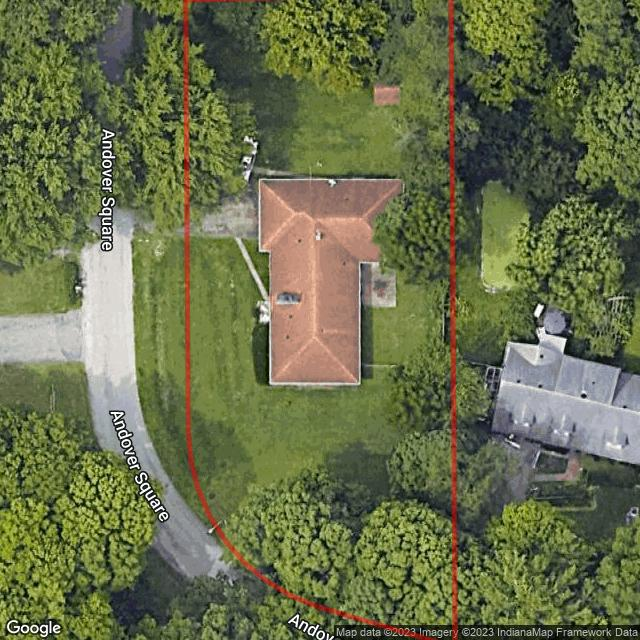Driveway: (191, 199, 269, 324)
Extra Driveway: (0, 209, 225, 578)
Extra Lawn: (132, 235, 213, 536)
House: (259, 179, 401, 385)
Other: (361, 262, 395, 308), (374, 84, 400, 104)
